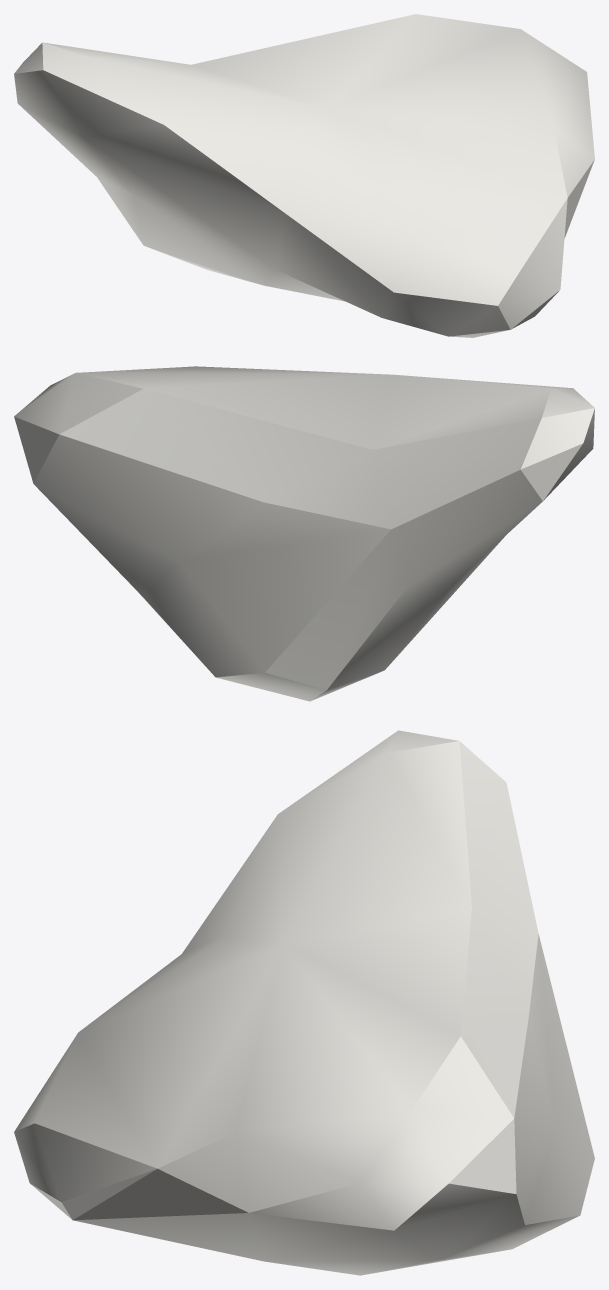
Rendered from rock_2.fbx.
3 renders of one model, top to bottom at view 1: azimuth 30°, elevation 25°; view 2: azimuth 150°, elevation 25°; view 3: azimuth 270°, elevation 25°, orthographic. The views are drawn at different scales.
Parts seen in each view (by area): view 1: rock.067; view 2: rock.067; view 3: rock.067.
Boxes of the visible parts, x1,y1,x2,y2 form: rock.067: (14,14,594,337); rock.067: (14,366,594,701); rock.067: (14,730,594,1275).
Bounding box in the file's own units: 324 × 167 × 247.
